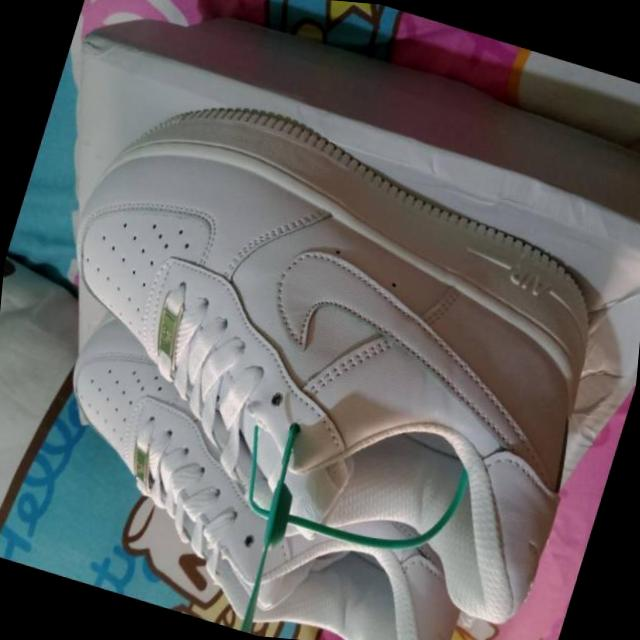nike_fake_airforce: (0, 61, 640, 639), (10, 301, 523, 640)
